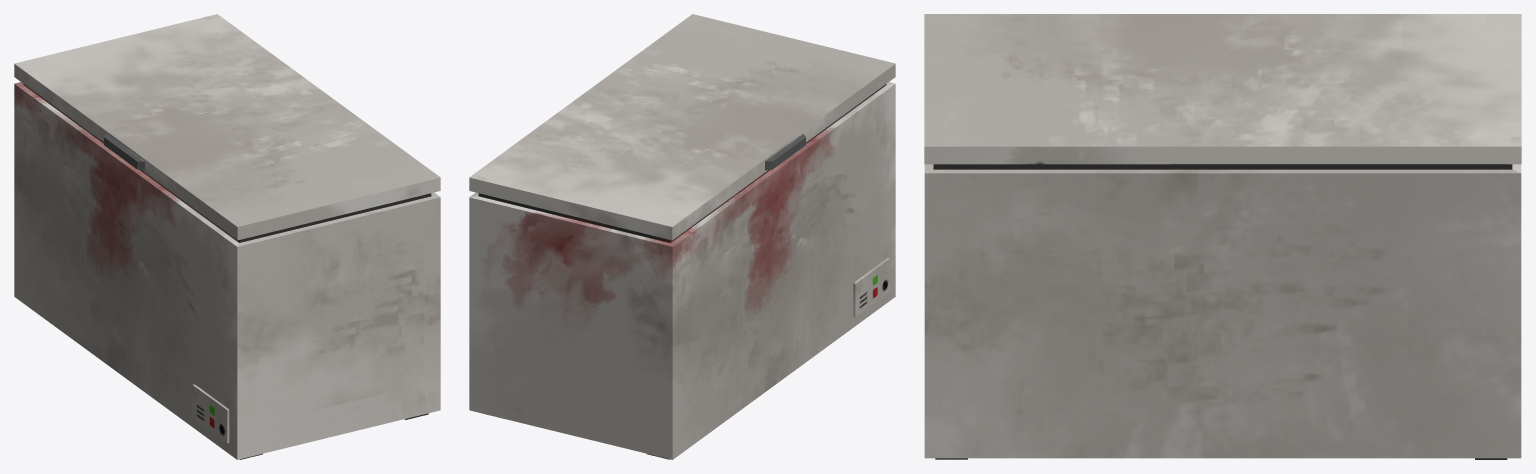
The model's file is Freezer.fbx.
3 views of the same model, side by side, from view 1: azimuth 30°, elevation 25°; view 2: azimuth 150°, elevation 25°; view 3: azimuth 270°, elevation 25° (orthographic). The views are drawn at different scales.
Visible parts, largest first — view 1: Cube; view 2: Cube; view 3: Cube.
Part boxes in pixels (box(x1,y1,x2,y2)): Cube: box(14, 14, 440, 459); Cube: box(469, 14, 895, 459); Cube: box(924, 14, 1521, 459).
Bounding box in the file's own units: 67.39 × 73.45 × 125.
